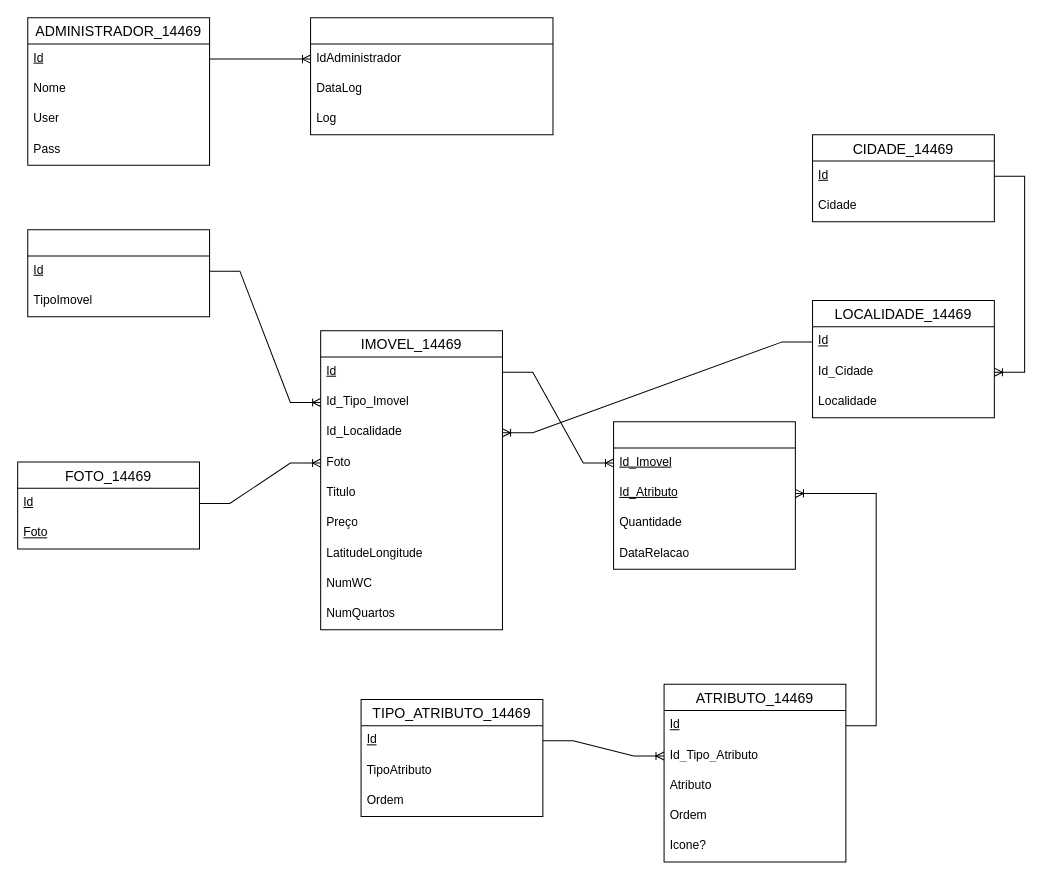
Image size: 1050x883. Some labels were removed from this diagram. Each missing label, with the box of its shape:
ADMINISTRADOR_LOG_14469: (310, 17, 553, 135)
TEM: (613, 421, 795, 569)
TIPO_IMOVEL_14469: (27, 229, 210, 317)
